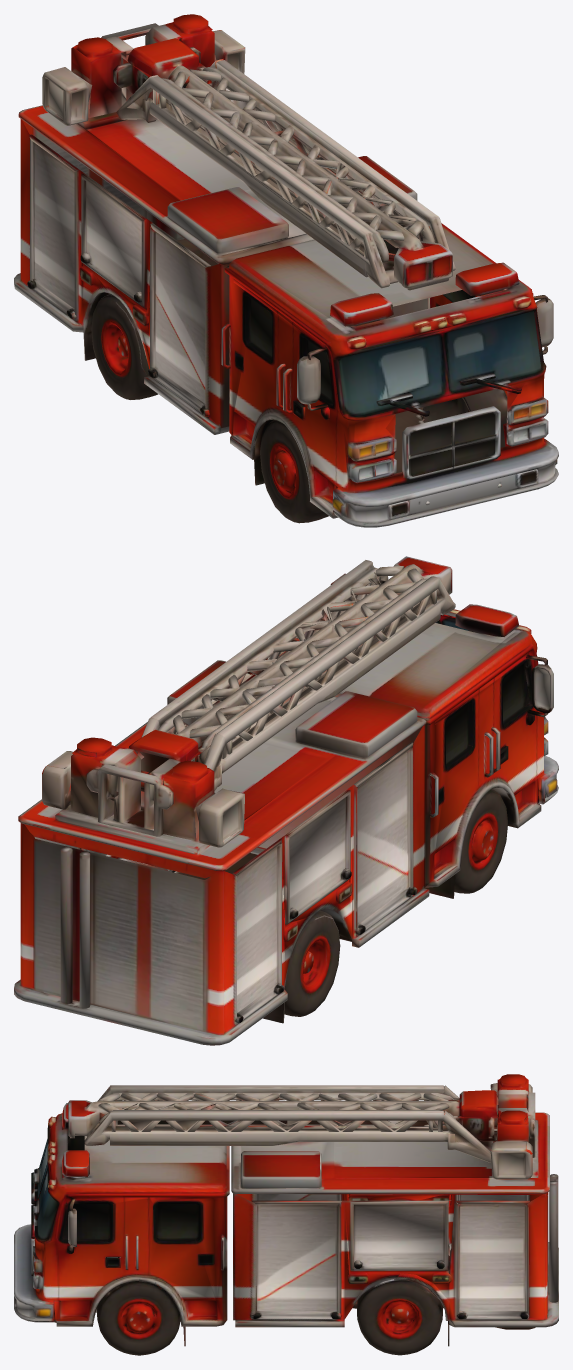
The model's file is Vehicles__a_fire_truck_a226878c_v1.cluster.glb.
3 renders of one model, top to bottom at view 1: azimuth 30°, elevation 25°; view 2: azimuth 150°, elevation 25°; view 3: azimuth 270°, elevation 25°, orthographic. The views are drawn at different scales.
Parts seen in each view (by area): view 1: material; view 2: material; view 3: material.
Boxes of the visible parts, left/top/right/bottom form: material: left=14, top=14, right=558, bottom=527; material: left=14, top=556, right=558, bottom=1045; material: left=14, top=1074, right=558, bottom=1355.
Bounding box in the file's own units: 0.7948 × 0.8586 × 1.9.
Materials: 1 (1 with a texture image).
